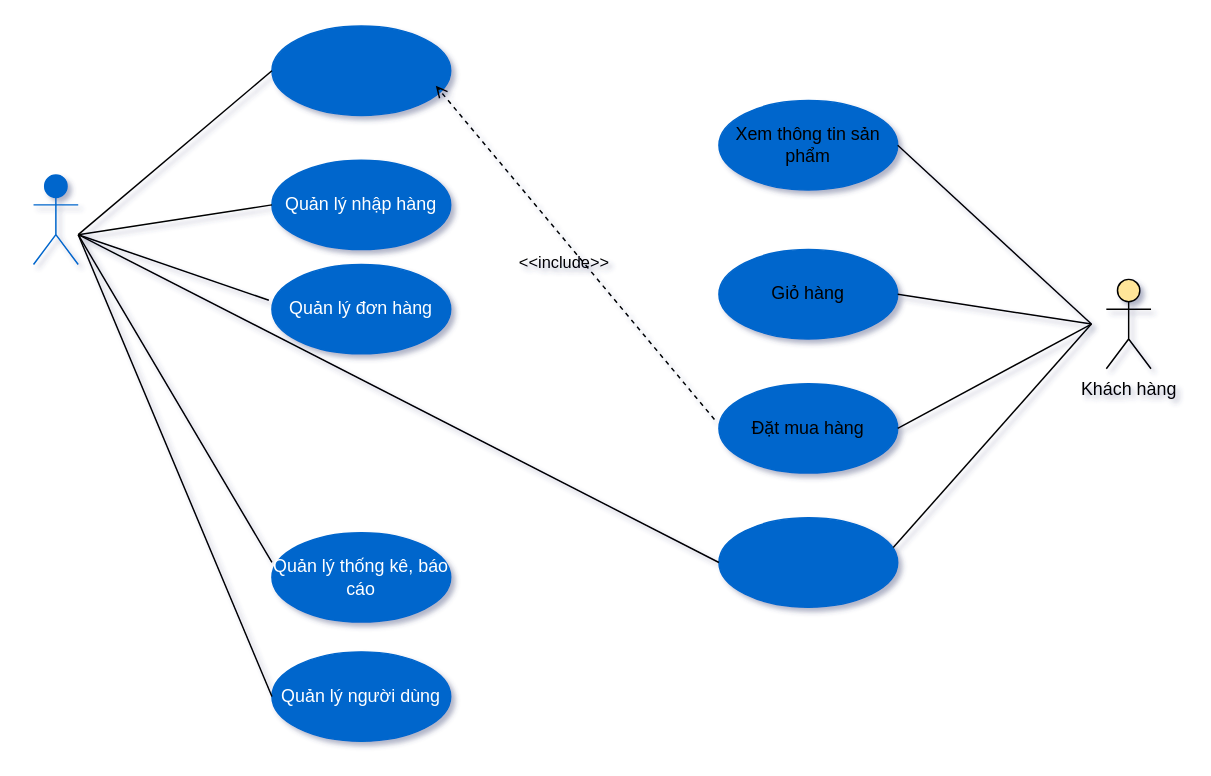
The diagram is 1211 pixels wide and 776 high, and some of its shapes have lost their labels. Here are the shapes that lost their labels. From the top down, the centre of each, then its label:
At point 360,70: "Đăng nhập".
At point 55,219: "Quản lý".
At point 807,561: "Tìm kiếm sản phẩm".
